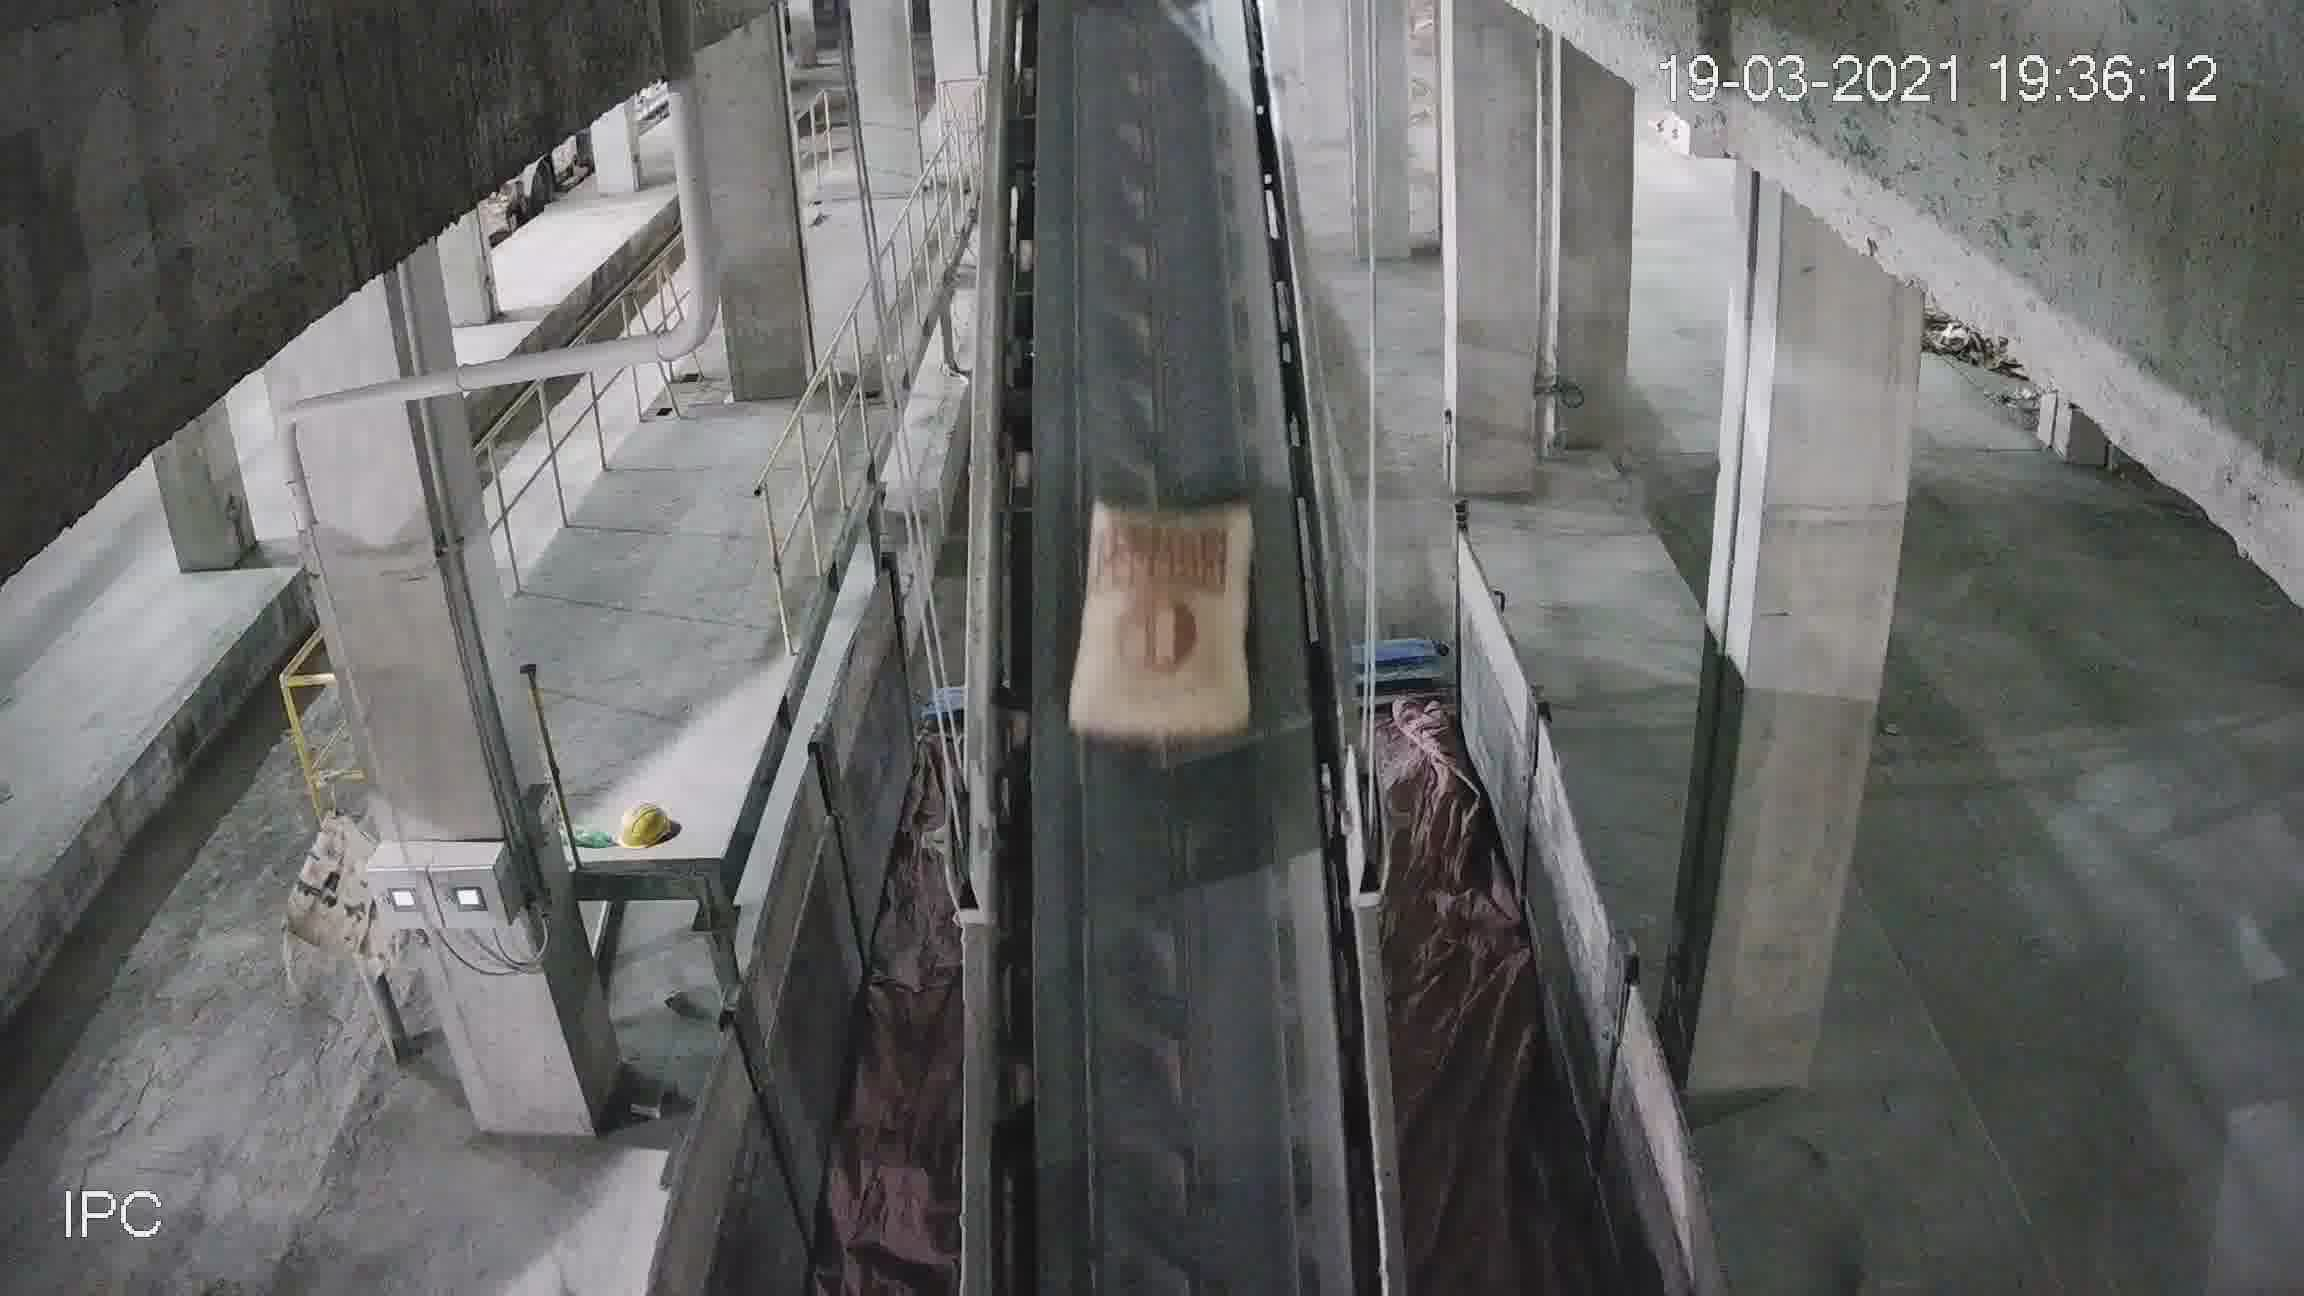bag: (1079, 505, 1255, 747)
belt: (956, 55, 1372, 1287)
